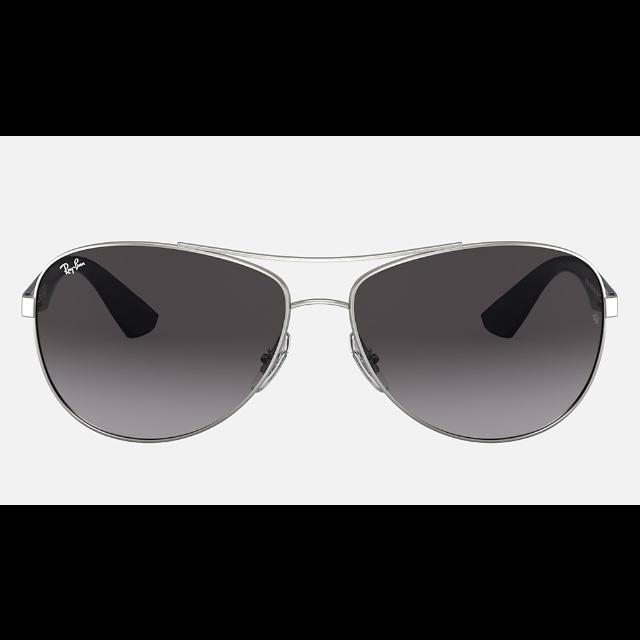Sunglasses: (22, 238, 618, 442)
